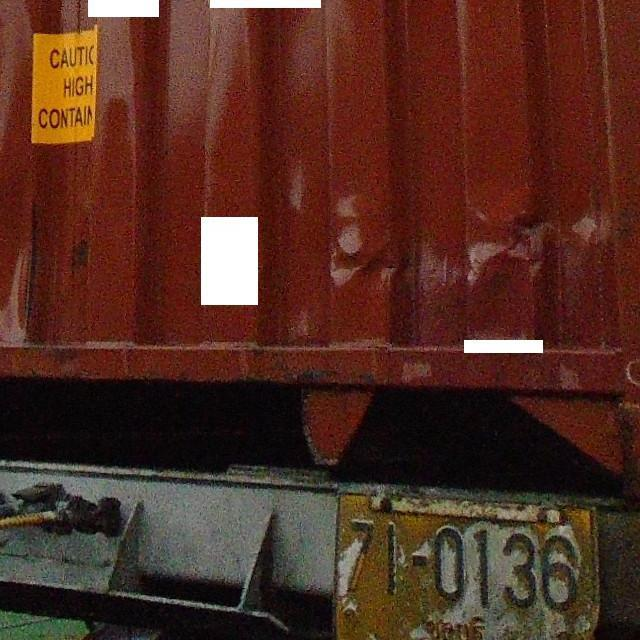dent: (324, 195, 588, 292)
